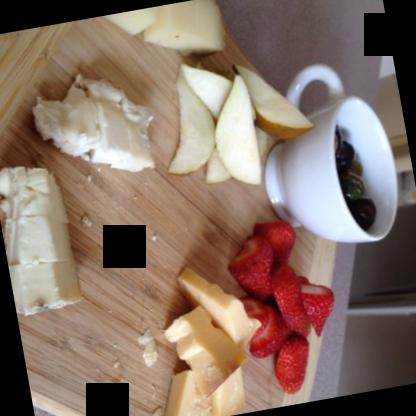strawberry: (215, 219, 342, 396)
